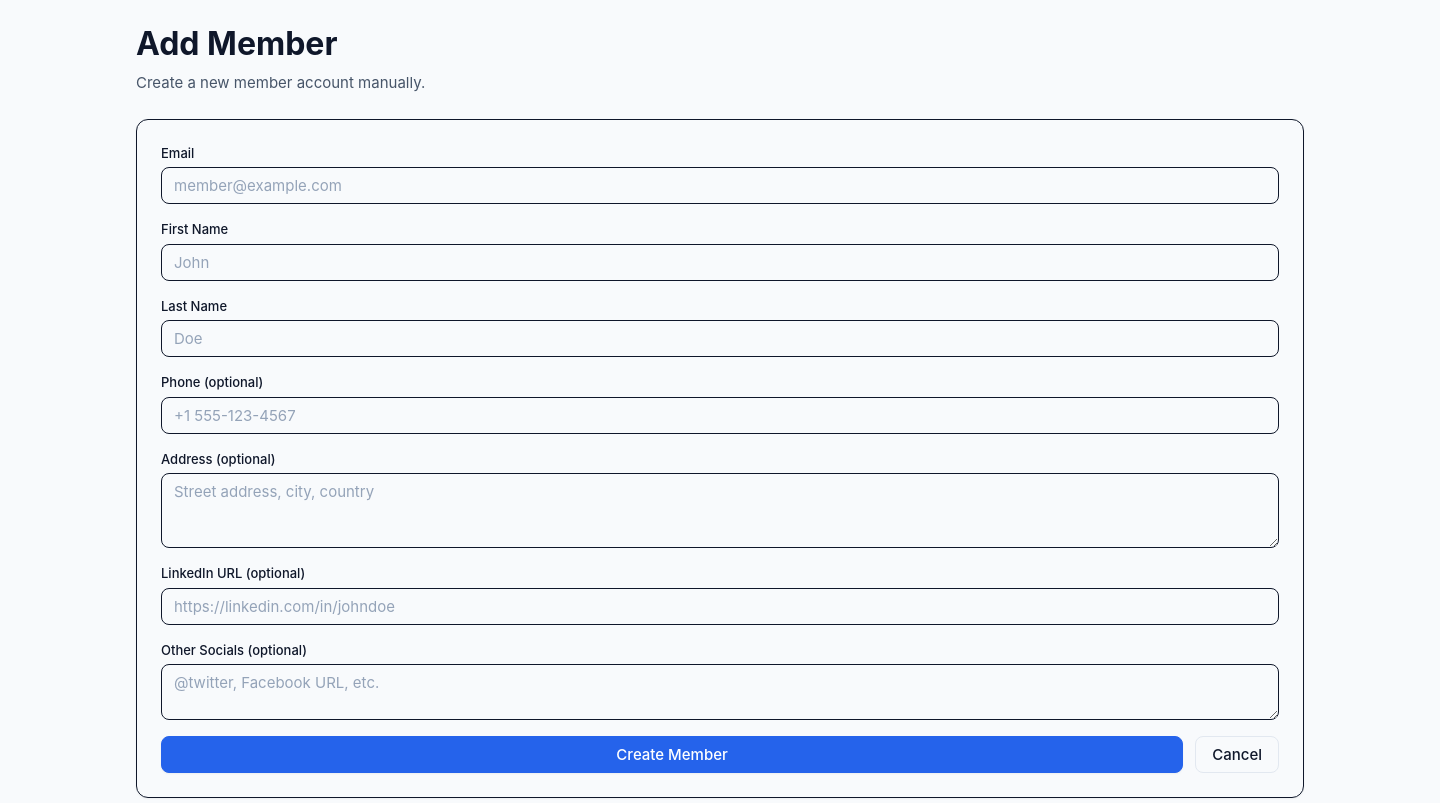
Test: AdminCreateMemberPage › Form validation › shows error when required fields are missing
The width and height of the screenshot is (1440, 803).
Note: Submit empty form
What coordinates should you click on to do the following:
click the button "Create Member"
I would click on:
 (672, 754)
Its box is left=161, top=736, right=1183, bottom=773.
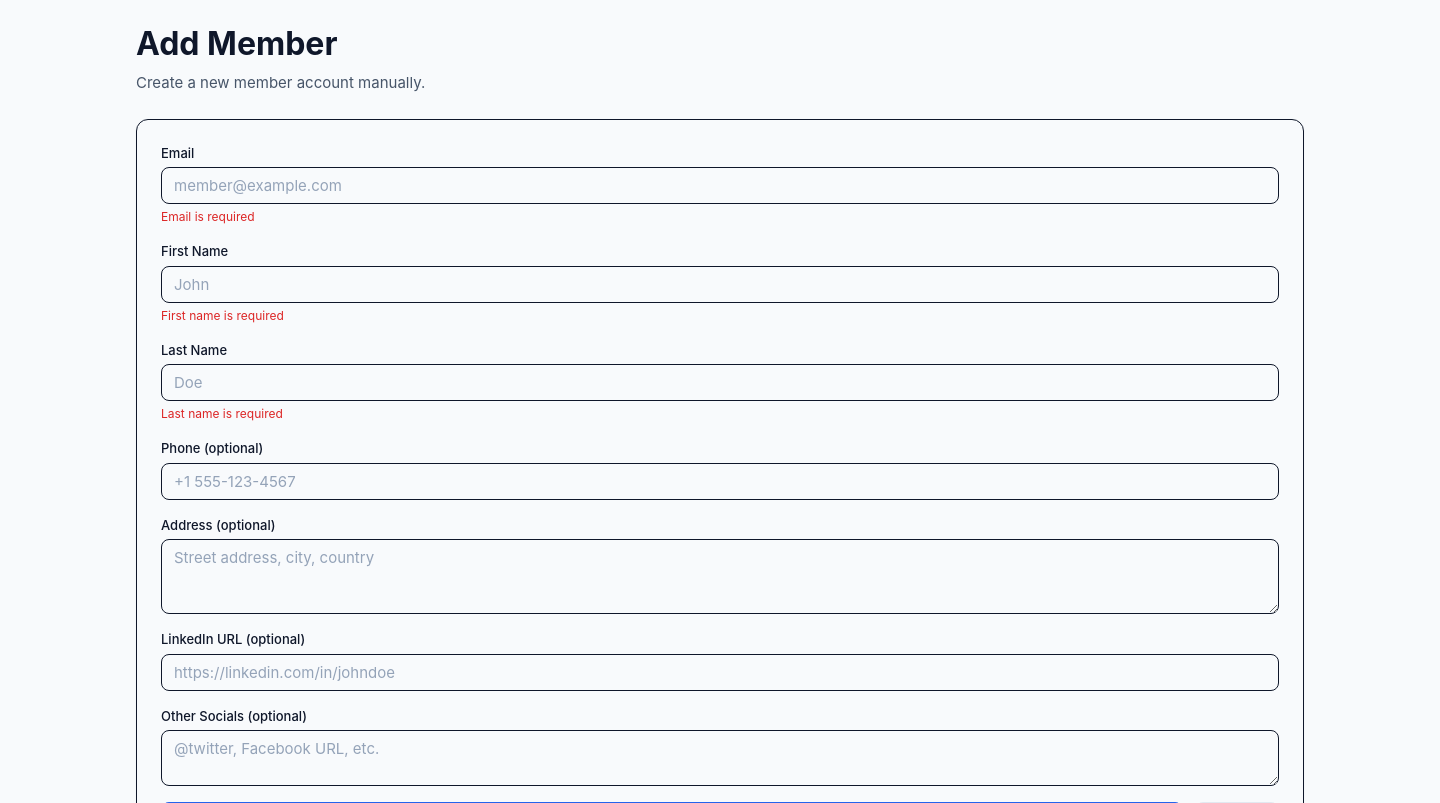
Expected: the text "Email is required" is shown, left=161, top=209, right=255, bottom=224
